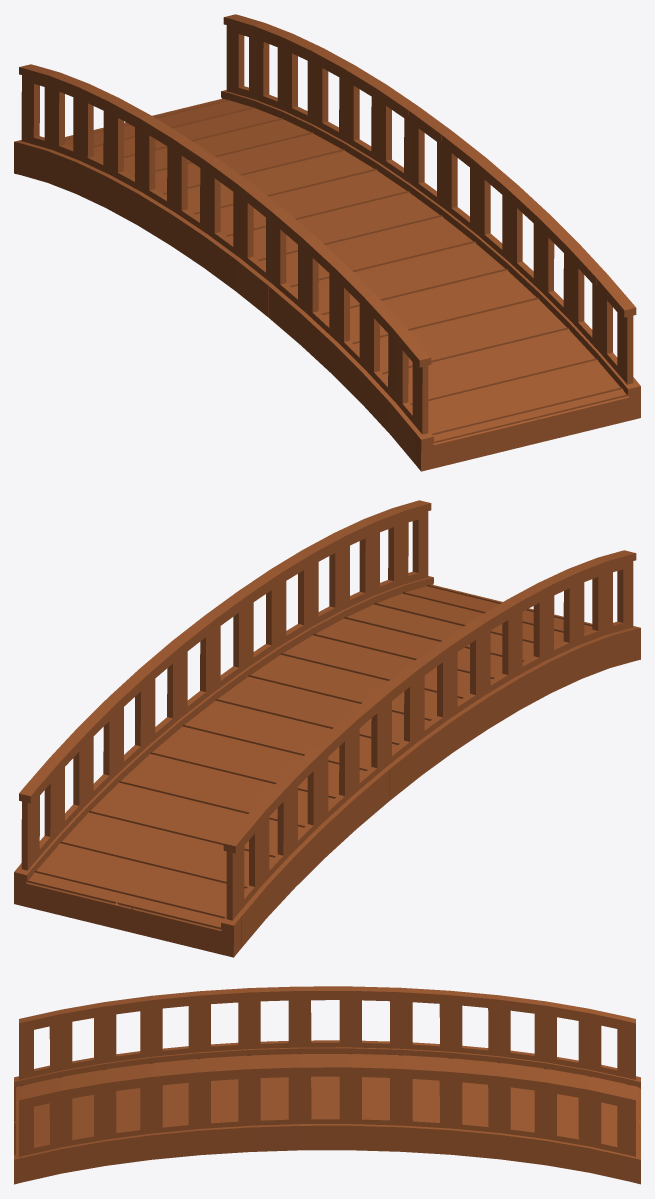
Rendered from Bridge.fbx.
3 renders of one model, top to bottom at view 1: azimuth 30°, elevation 25°; view 2: azimuth 150°, elevation 25°; view 3: azimuth 270°, elevation 25°, orthographic. The views are drawn at different scales.
Parts seen in each view (by area): view 1: Cube.001; view 2: Cube.001; view 3: Cube.001.
Part boxes in pixels (x1,y1,x2,y2): Cube.001: (14, 14, 640, 471); Cube.001: (14, 500, 640, 957); Cube.001: (14, 986, 640, 1184).
Bounding box in the file's own units: 242 × 159 × 776.
